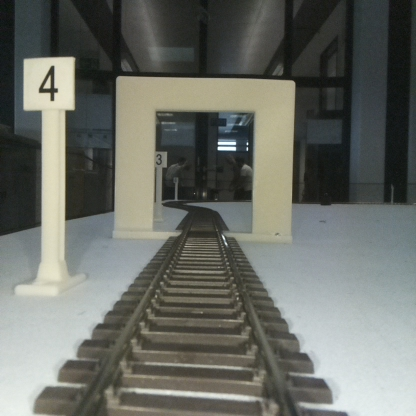white-info-3: (154, 151, 167, 220)
white-info-4: (24, 56, 74, 294)
